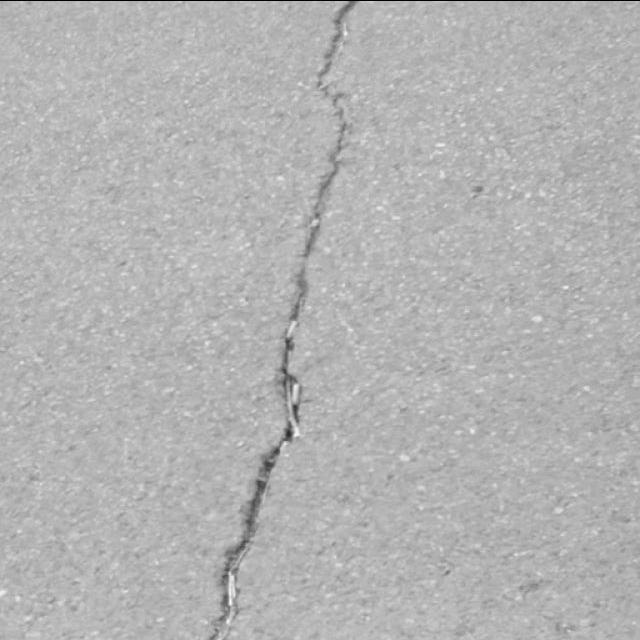SurfaceCrack: (156, 0, 409, 640)
